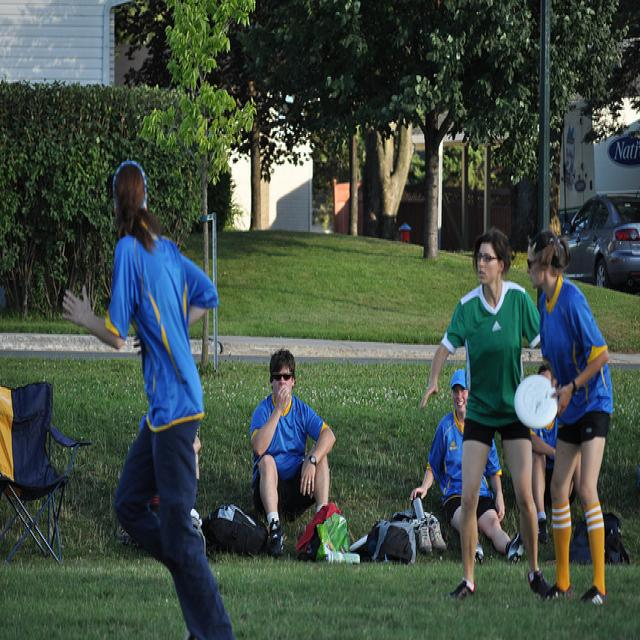Vehicle: (559, 96, 640, 230), (562, 194, 640, 293)
